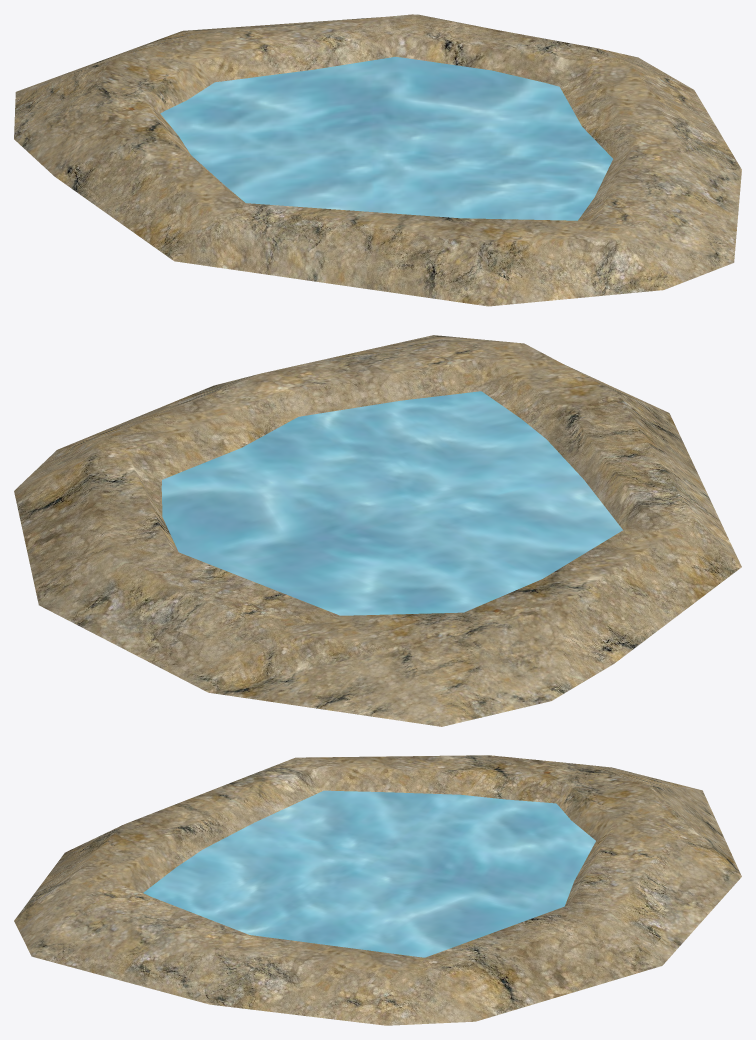
Rendered from pir_m_prp_cav_pool_water_low_large.fbx.
3 renders of one model, top to bottom at view 1: azimuth 30°, elevation 25°; view 2: azimuth 150°, elevation 25°; view 3: azimuth 270°, elevation 25°, orthographic. The views are drawn at different scales.
Visible parts, largest first — view 1: pool_lip, water.001; view 2: pool_lip, water.001; view 3: pool_lip, water.001.
Boxes of the visible parts, x1,y1,x2,y2 form: pool_lip: [14, 14, 741, 306]; water.001: [160, 56, 612, 220]; pool_lip: [14, 335, 741, 726]; water.001: [161, 391, 622, 615]; pool_lip: [14, 755, 741, 1025]; water.001: [143, 790, 595, 957].
Size of the model in its own units: 9266 by 581 by 10888.
Materials: 2 (2 with a texture image).
